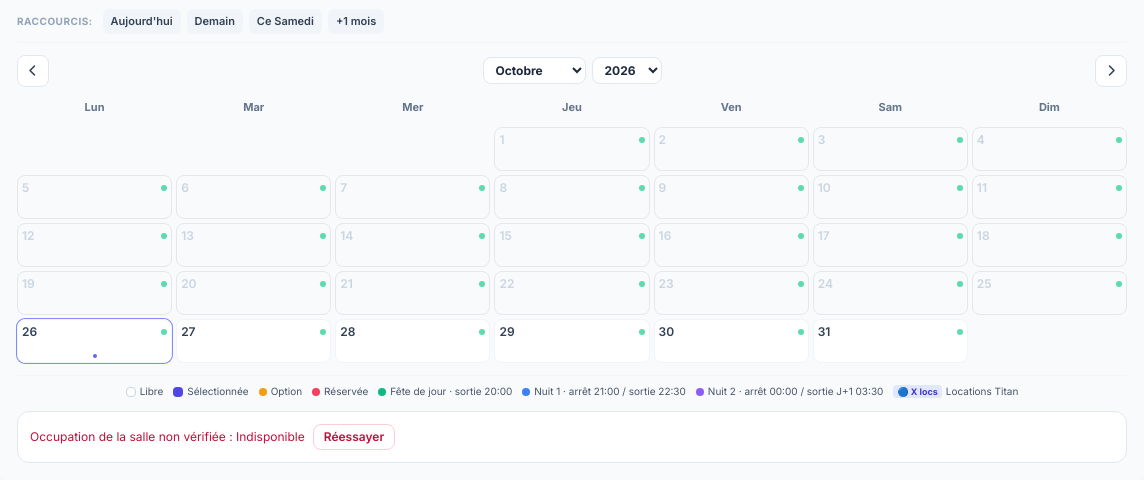
Test: AvailabilityDatePicker inline › keeps the venue calendar explicit and retryable when occupancy cannot be loaded
Expected: the text "Occupation de la salle non vérifiée : Indisponible" is shown, [30,429,305,445]
Click the button "Réessayer". click: (354, 437)
box: [313,424,395,450]
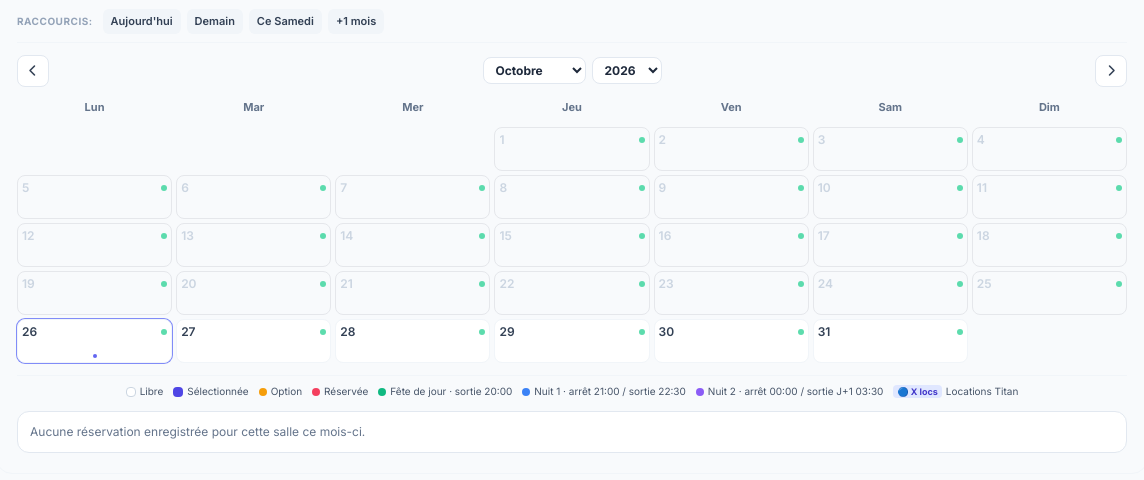
Result: the text "Aucune réservation enregistrée pour cette salle ce mois-ci." is shown at [30,424,365,439]
